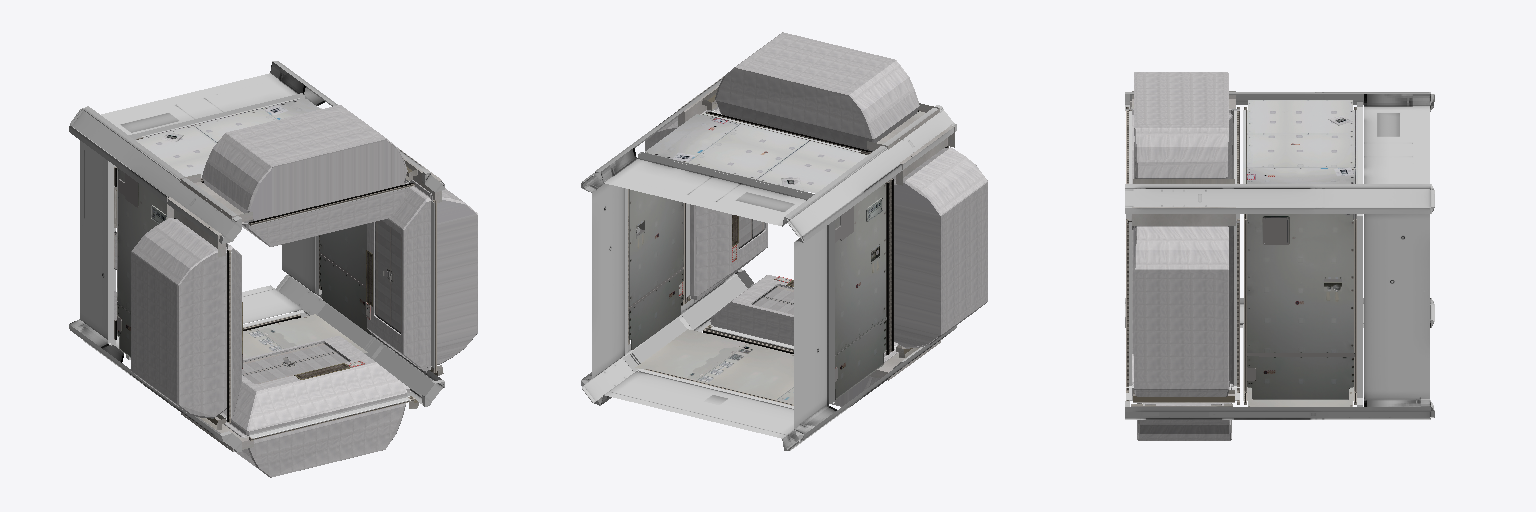
The picture shows the model from 3 angles: view 1: azimuth 30°, elevation 25°; view 2: azimuth 150°, elevation 25°; view 3: azimuth 270°, elevation 25°; orthographic projection.
Bounding box in the file's own units: 3.14 × 3.14 × 2.83.
Materials: 1 (1 with a texture image).